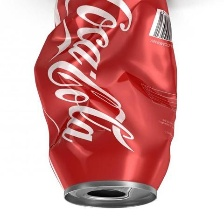can: (27, 0, 179, 210)
